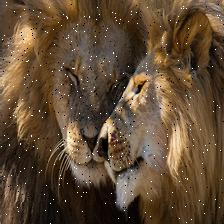Lion: (3, 2, 224, 224), (0, 9, 133, 202)
